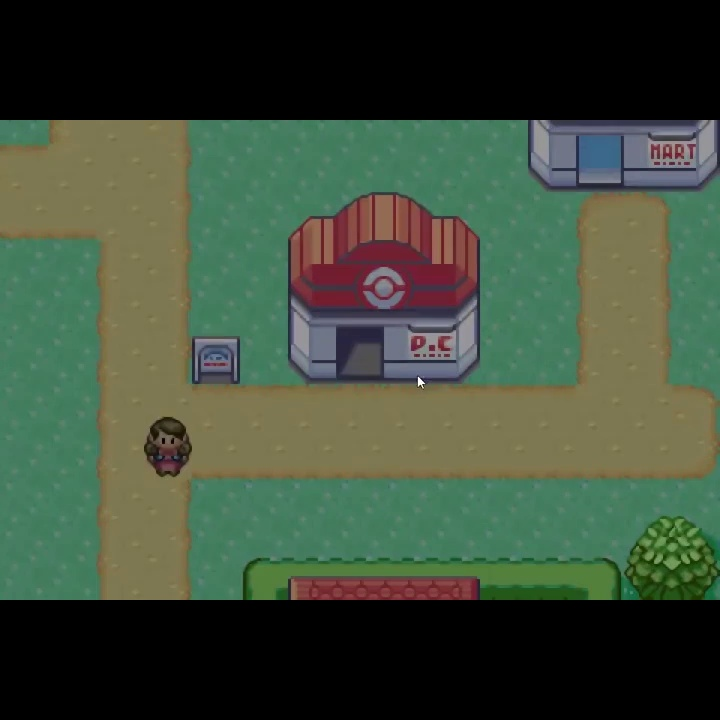npc: (142, 414, 195, 479)
pokecen: (283, 188, 486, 386)
pokemart: (523, 119, 720, 194)
